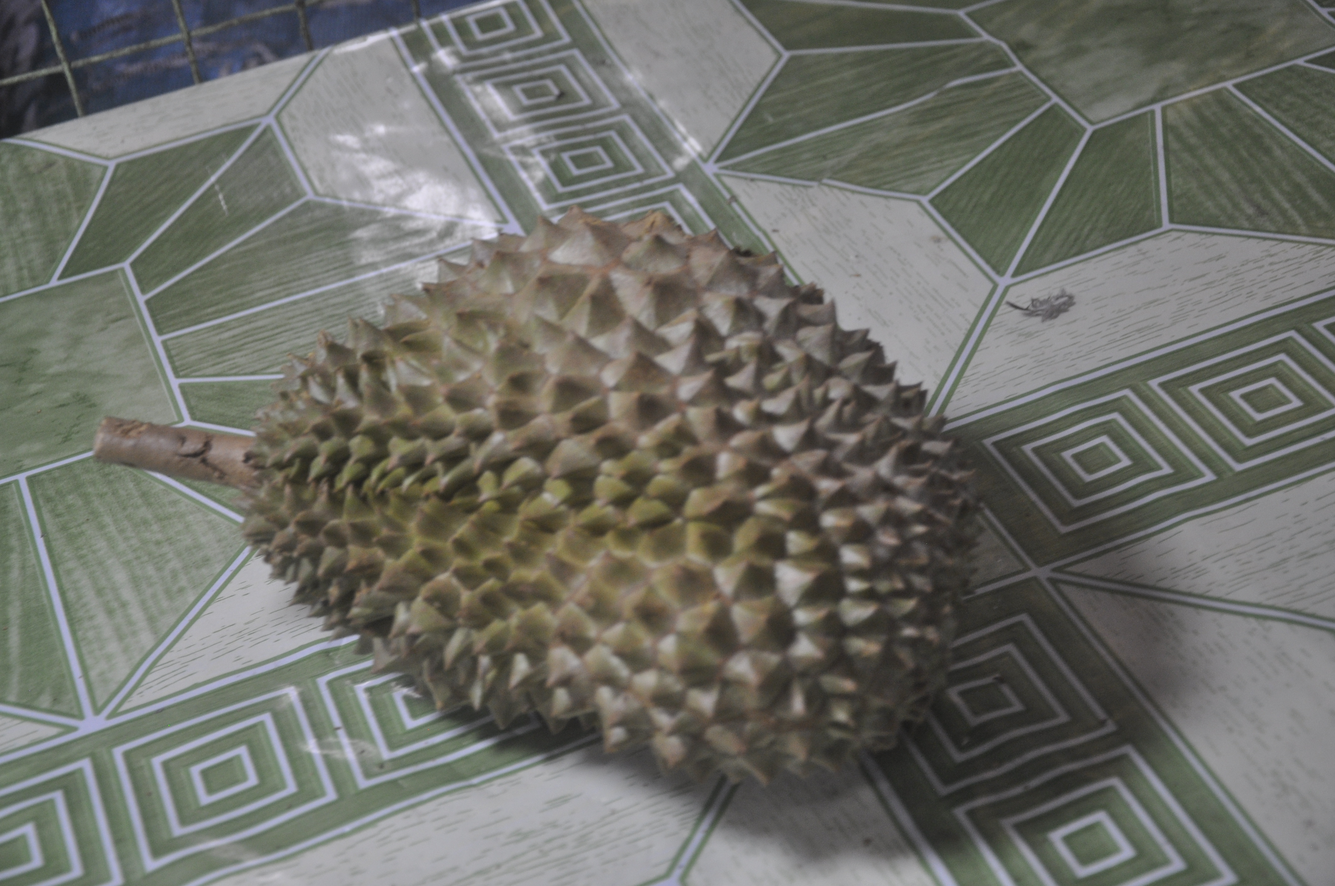mature: (243, 209, 976, 782)
